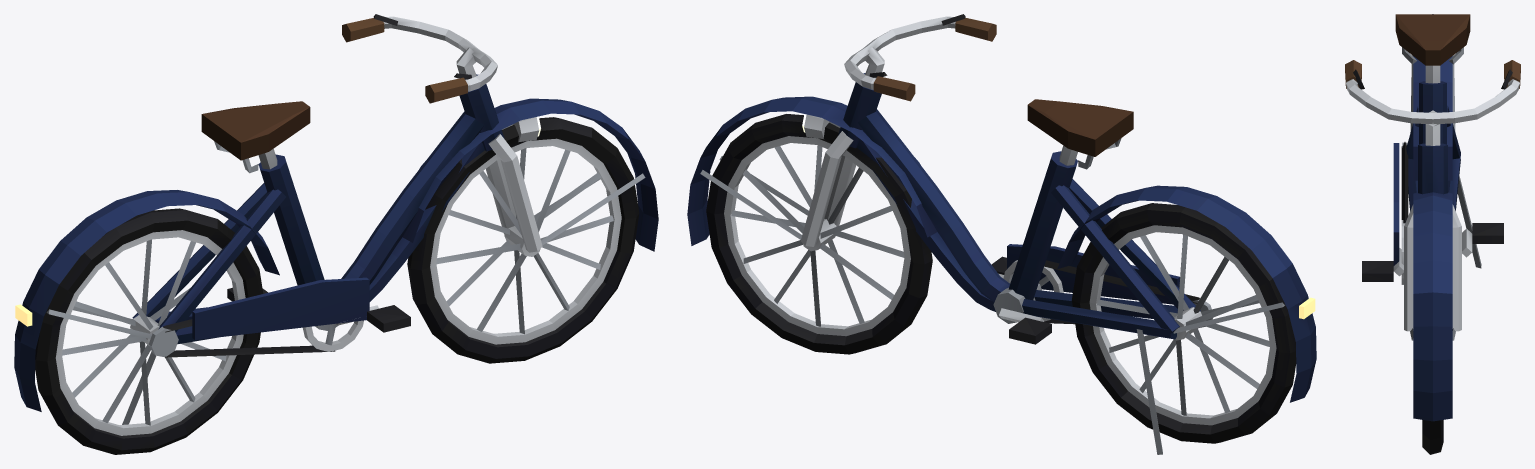
The model's file is mt_bicycle_navy.glb.
3 renders of one model, left to right at view 1: azimuth 30°, elevation 25°; view 2: azimuth 150°, elevation 25°; view 3: azimuth 270°, elevation 25°, orthographic. The views are drawn at different scales.
Visible parts, largest first — view 1: base, wheelF_m, wheelR_m, bars_m, crank_m; view 2: base, wheelR_m, wheelF_m, bars_m, crank_m; view 3: base, bars_m, crank_m, wheelF_m.
Part boxes in pixels (x1,y1,x2,y2): base: [14, 74, 658, 424]; wheelF_m: [407, 117, 639, 363]; wheelR_m: [35, 208, 263, 454]; bars_m: [342, 14, 497, 103]; crank_m: [227, 287, 410, 351]; base: [687, 73, 1316, 454]; wheelR_m: [1071, 203, 1296, 443]; wheelF_m: [706, 114, 932, 354]; bars_m: [844, 14, 996, 101]; crank_m: [991, 256, 1063, 344]; base: [1393, 14, 1481, 421]; bars_m: [1345, 60, 1520, 145]; crank_m: [1362, 220, 1503, 284]; wheelF_m: [1422, 420, 1443, 454].
Size of the model in its own units: 0.745 by 0.3844 by 0.1882.
